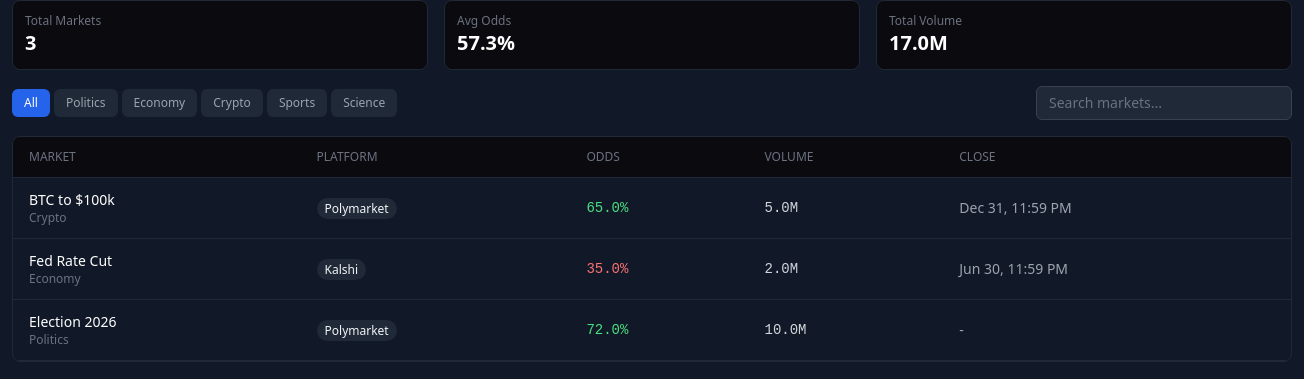
Test case: MarketTable › filters by category
Expected: the text "BTC to $100k" is shown, x1=29 y1=190 x2=115 y2=209
Click the button "Crypto" at {"x": 232, "y": 103}, box x1=201 y1=89 x2=263 y2=117
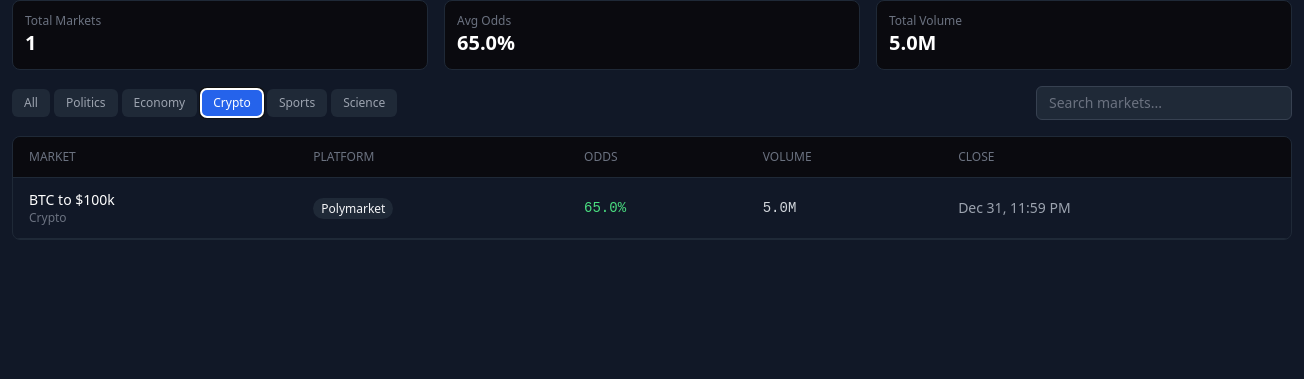
Expected: the text "BTC to $100k" is shown, x1=29 y1=190 x2=115 y2=209
Expected: the text "Fed Rate Cut" is gone
Expected: the text "Election 2026" is gone
